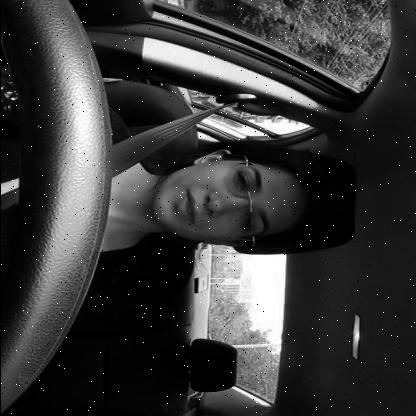seatbelt: (0, 91, 361, 254)
